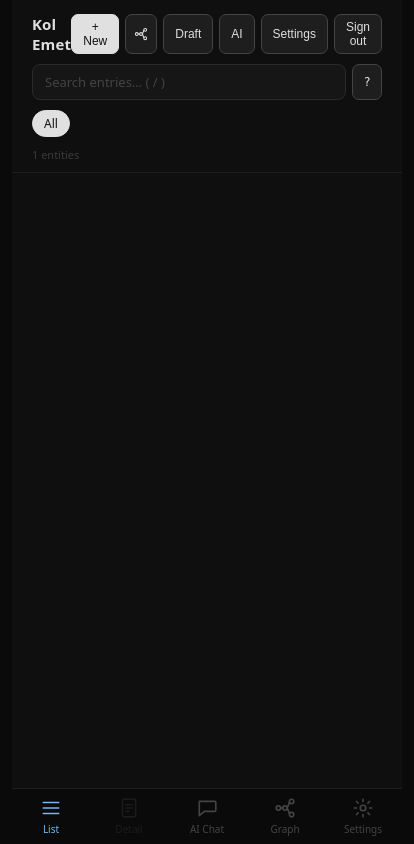
WikiLayout workspace group › shows the workspace name, fetched when Settings opens
Click the 5th button with class "tab-btn". click: (363,816)
box: [324,789,402,843]
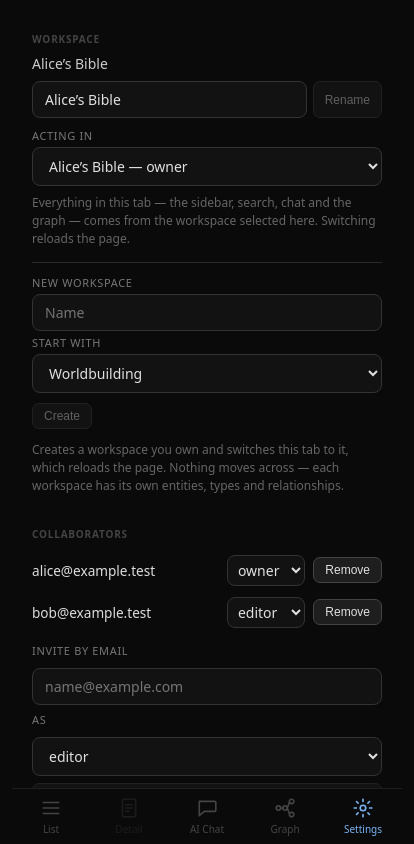
Expected: the text with class "workspace-name" reads "Alice’s Bible", [32,54,108,73]
